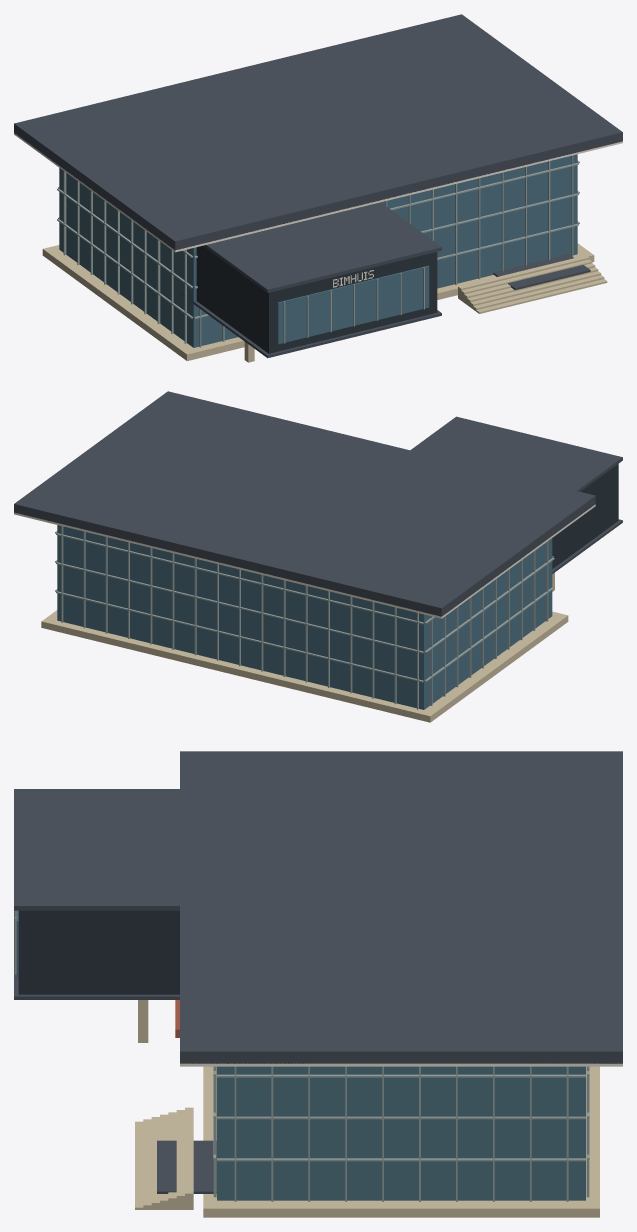
The model's file is muziekgebouw-bimhuis.glb.
The picture shows the model from 3 angles, top to bottom: view 1: azimuth 30°, elevation 25°; view 2: azimuth 150°, elevation 25°; view 3: azimuth 270°, elevation 25°; orthographic projection. The views are drawn at different scales.
Parts seen in each view (by area): view 1: muziekgebouw-bimhuis; view 2: muziekgebouw-bimhuis; view 3: muziekgebouw-bimhuis.
Part boxes in pixels (x1,y1,x2,y2): muziekgebouw-bimhuis: (14, 14, 622, 362); muziekgebouw-bimhuis: (14, 391, 622, 722); muziekgebouw-bimhuis: (14, 751, 622, 1217).
Size of the model in its own units: 77 by 21.5 by 66.
